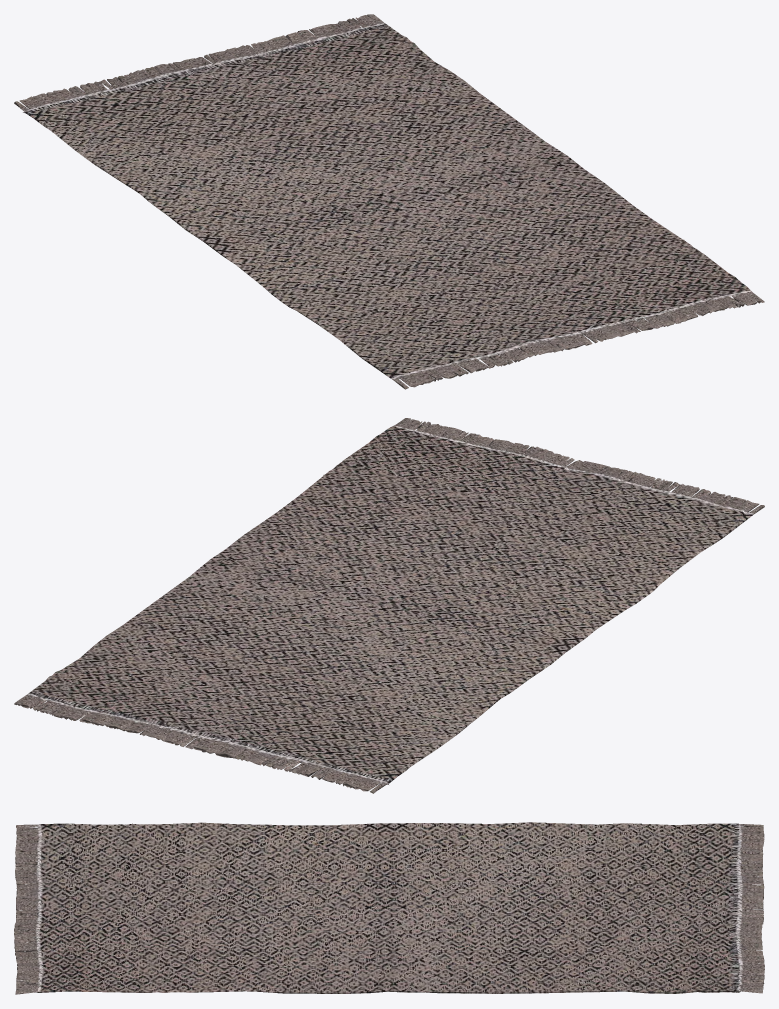
Rendered from 12 - RÖRKÄR - 平織地毯, 黑色自然色, 80x150 公分 IKEA 線上購物.glb.
3 renders of one model, top to bottom at view 1: azimuth 30°, elevation 25°; view 2: azimuth 150°, elevation 25°; view 3: azimuth 270°, elevation 25°, orthographic. The views are drawn at different scales.
Visible parts, largest first — view 1: ProcessedMeshNode; view 2: ProcessedMeshNode; view 3: ProcessedMeshNode.
Boxes of the visible parts, box(x1,y1,x2,y2) form: ProcessedMeshNode: box(14, 14, 764, 389); ProcessedMeshNode: box(14, 418, 764, 793); ProcessedMeshNode: box(14, 822, 764, 994).
Size of the model in its own units: 0.8082 by 0.0111 by 1.51.
Materials: 1 (1 with a texture image).
